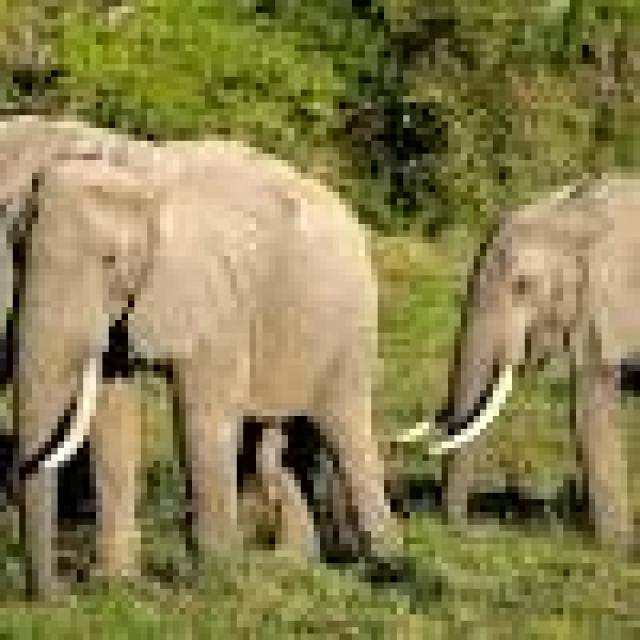Elephant: (0, 109, 410, 602), (384, 166, 634, 557)
